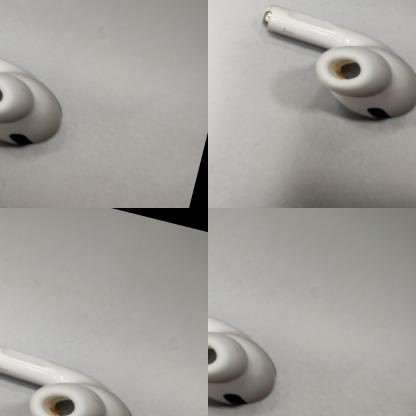Airpods: (286, 29, 416, 208), (0, 278, 129, 416), (208, 270, 309, 416)
